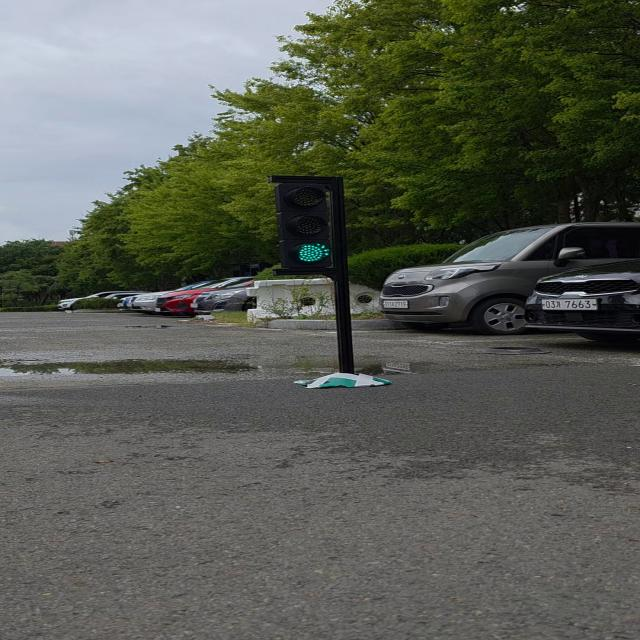green: (274, 180, 339, 272)
